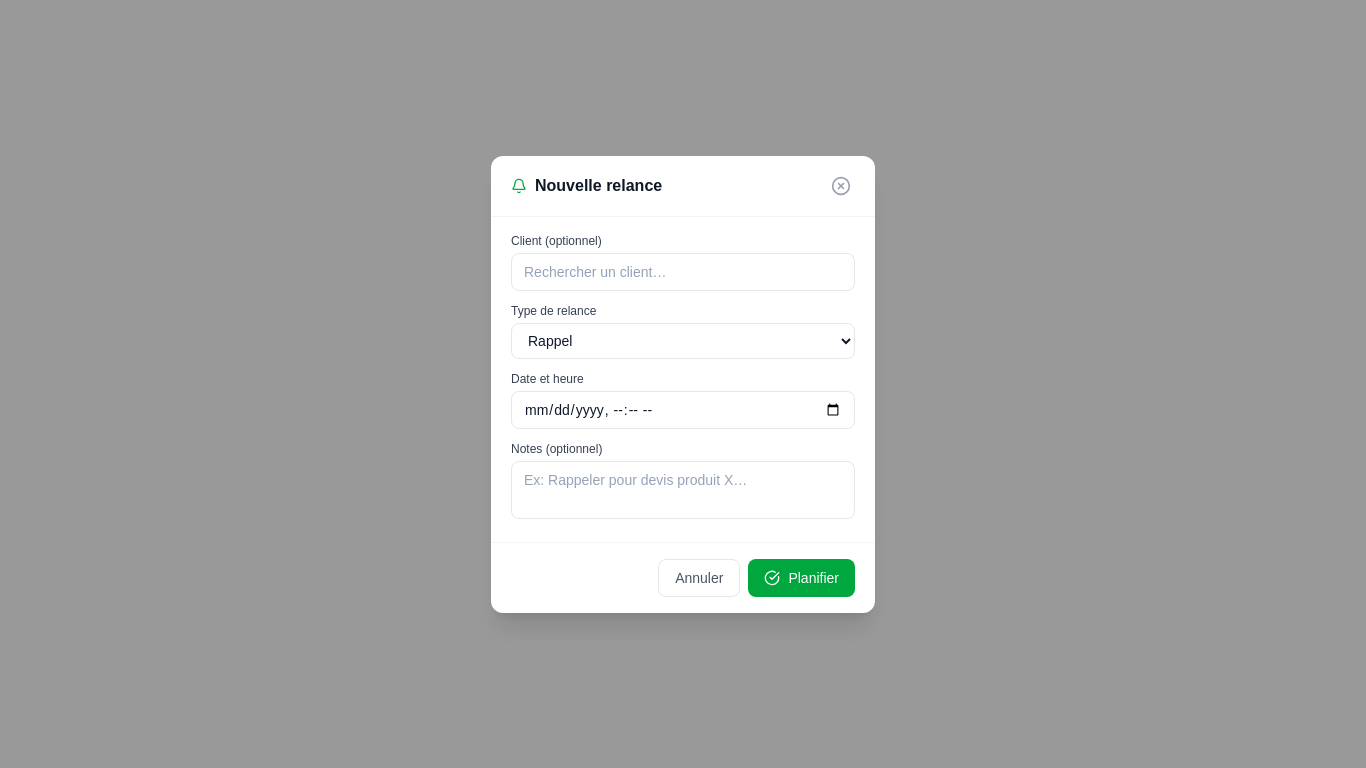
it: CreateFollowUpModal › affiche un message d'erreur si l'API échoue
The image size is (1366, 768).
In the 2nd field: (683, 410) left=511, top=390, right=855, bottom=428, type "2026-05-01T09:00"
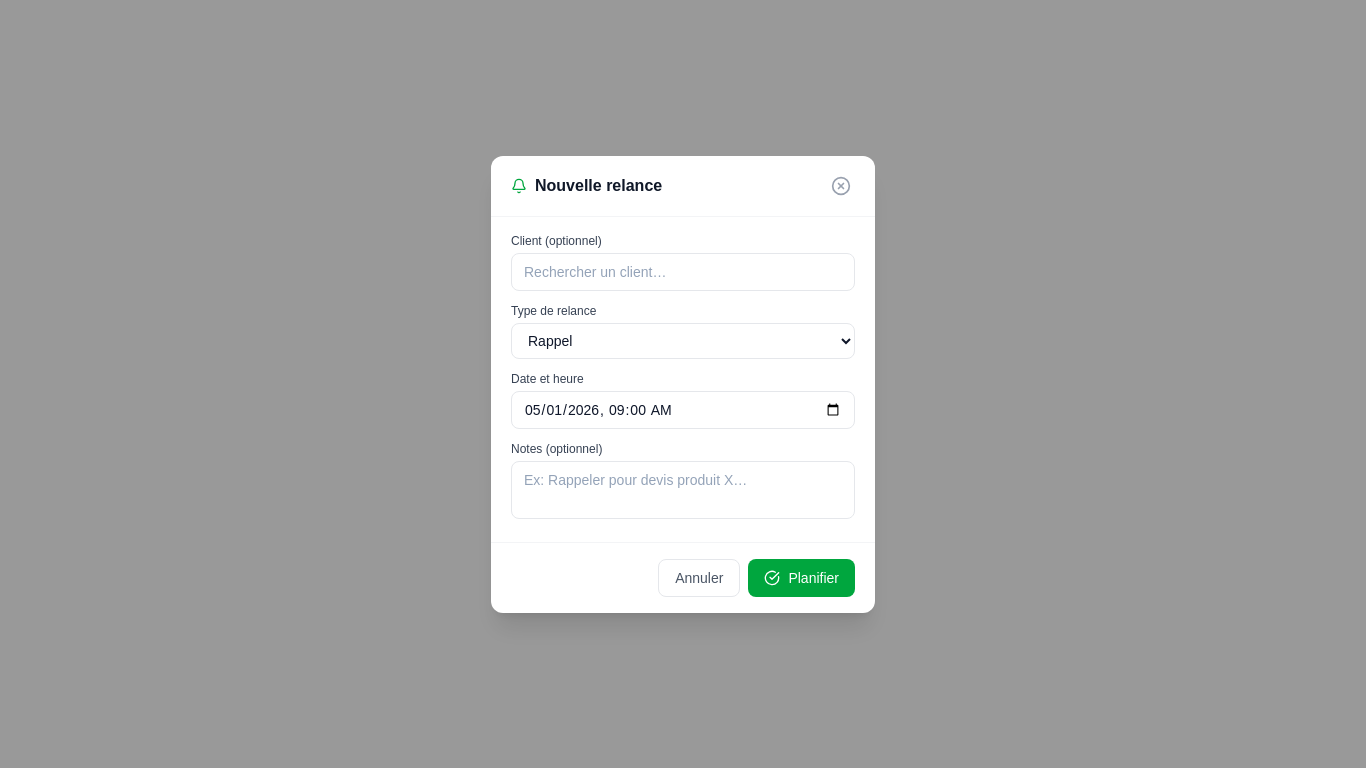
Click the button "Planifier": (802, 578) left=748, top=558, right=855, bottom=596
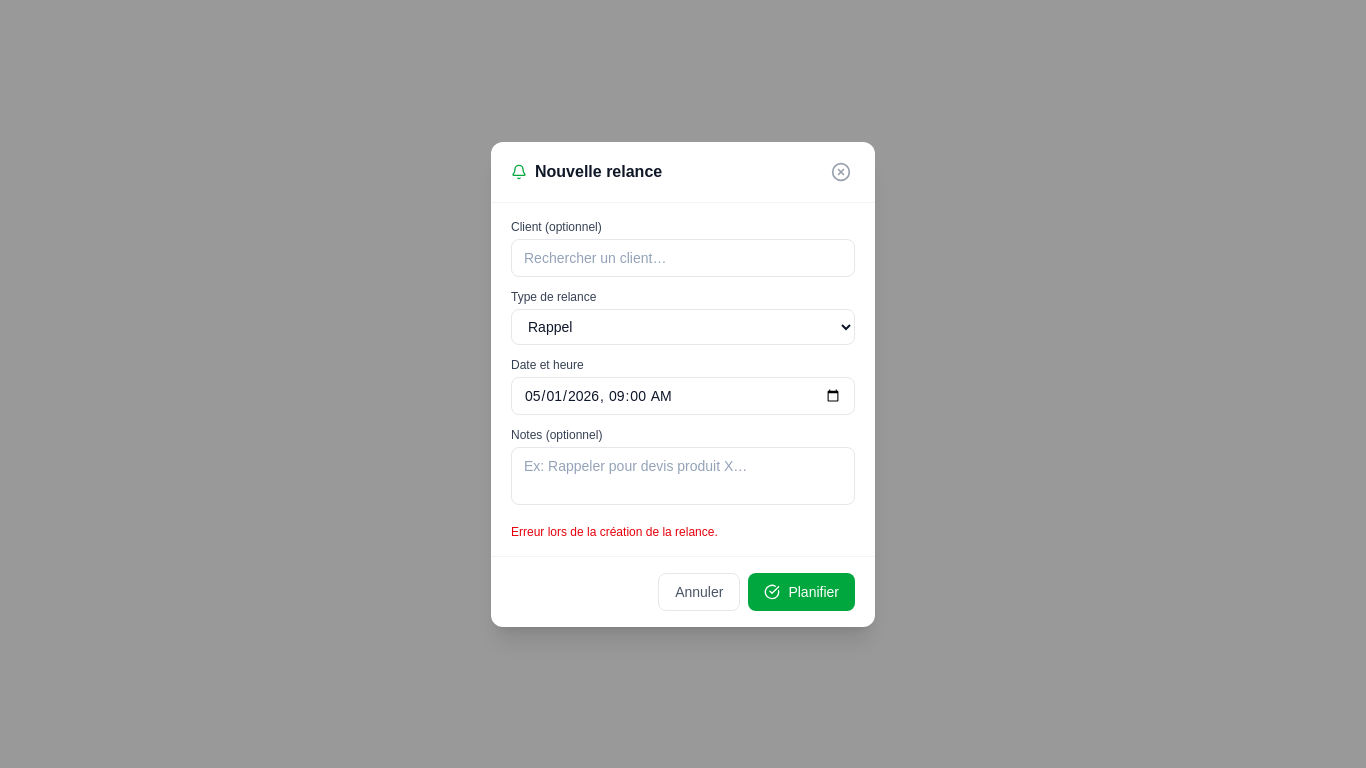
Check: the text "Erreur lors de la création de la relance." is shown, box left=511, top=524, right=718, bottom=538
